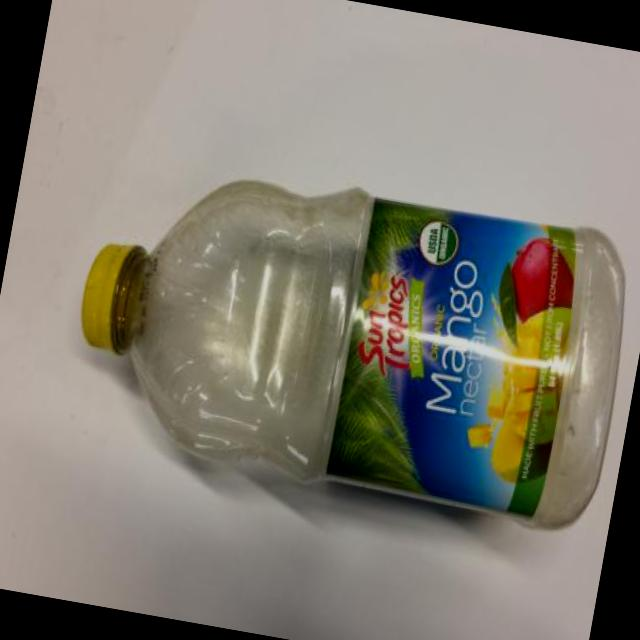Recycle: (52, 112, 640, 552)
